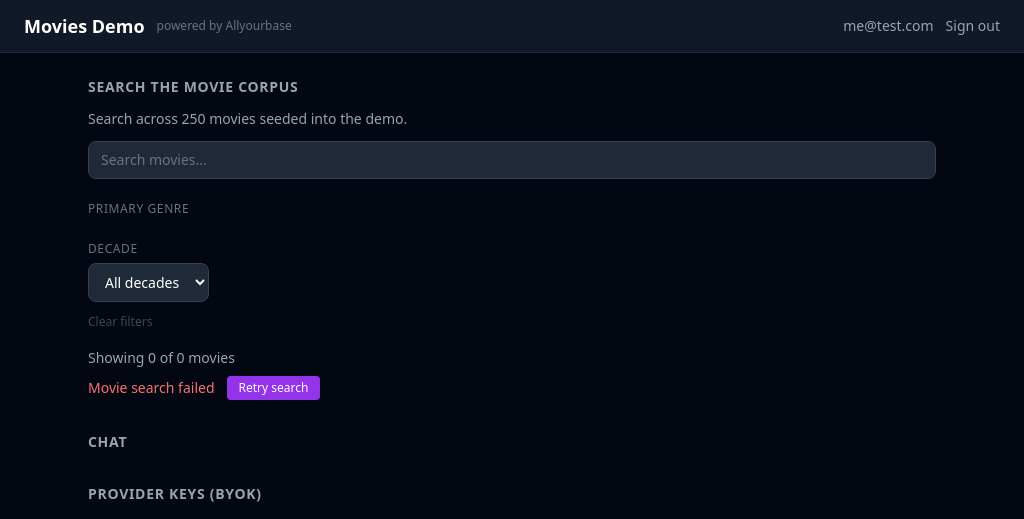
it: App search › clears stale failed search state when signing out
Expected: the message "Movie search failed" is shown, [88, 378, 214, 398]
Click the button "Sign out" at (973, 26), box [946, 16, 1000, 36]
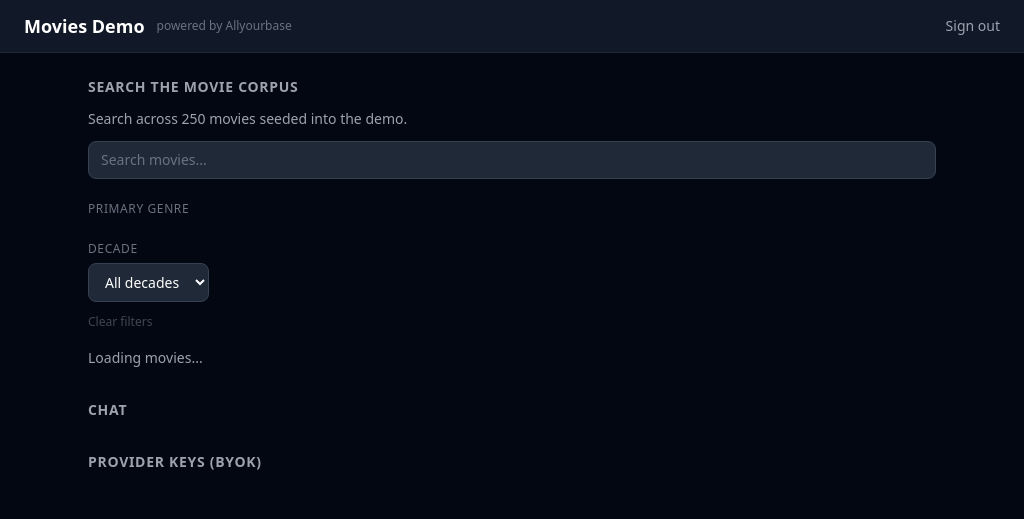
Expected: the text "Movie search failed" is gone
Expected: the message with test id "results-summary" reads "Loading movies...", [88, 348, 203, 367]
